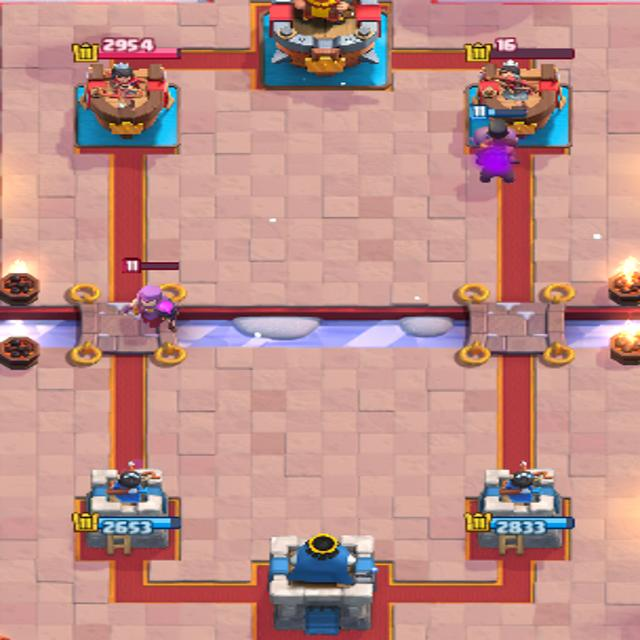EKingTower: (258, 0, 391, 90), (268, 534, 378, 634)
EMotherWitch: (124, 283, 184, 339)
EnemyPrincessTower: (466, 60, 568, 149), (77, 63, 178, 151)
ORamrider: (470, 119, 519, 182)
OwnPrincessTower: (465, 462, 574, 557), (72, 462, 180, 556)
